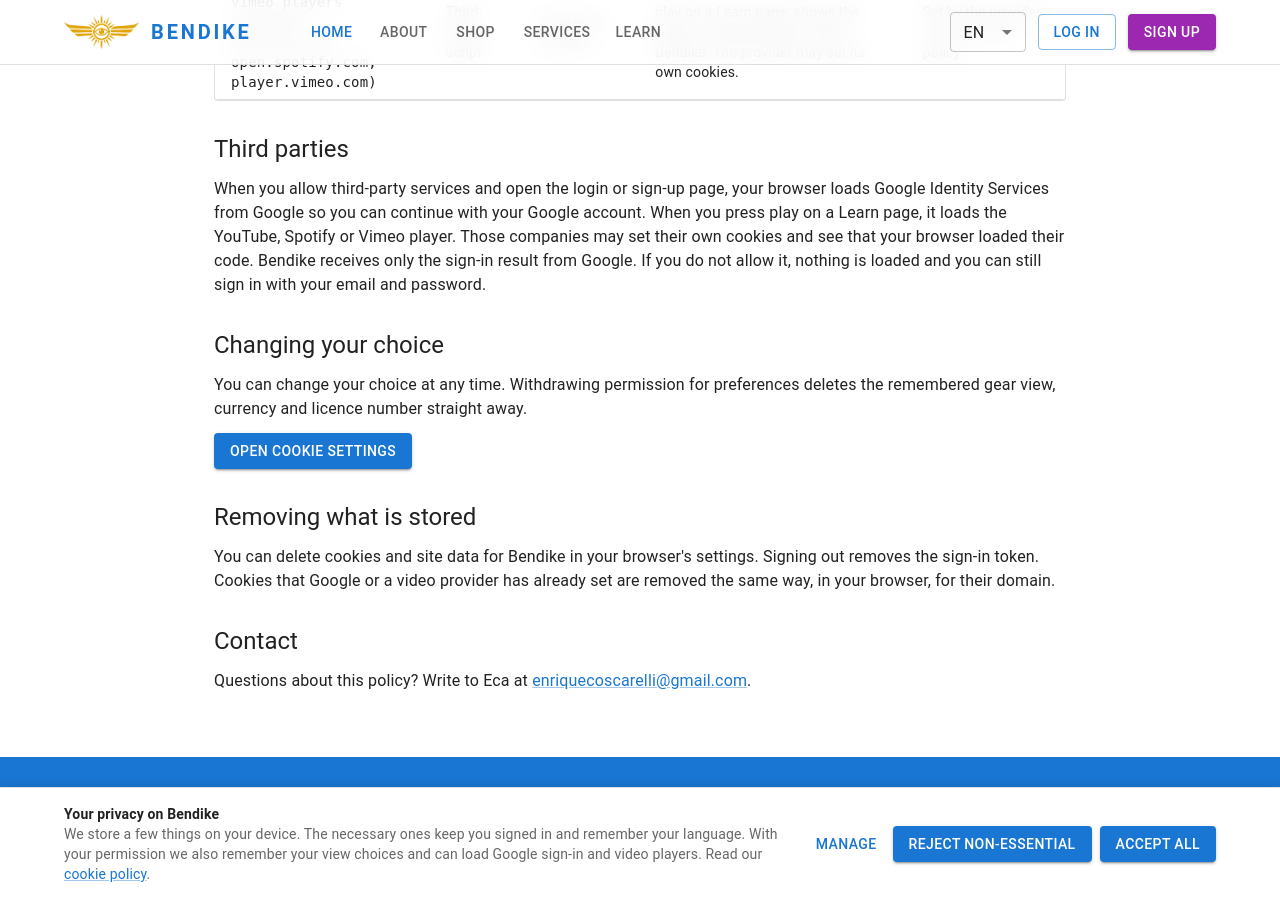
Scenario: CookiePolicyPage › explains how to change the choice, with a button that opens the settings
This screenshot has width=1280, height=900.
(page scrolled)
Step 1. Click the button "Open cookie settings" → (313, 451), box [214,432,412,469]
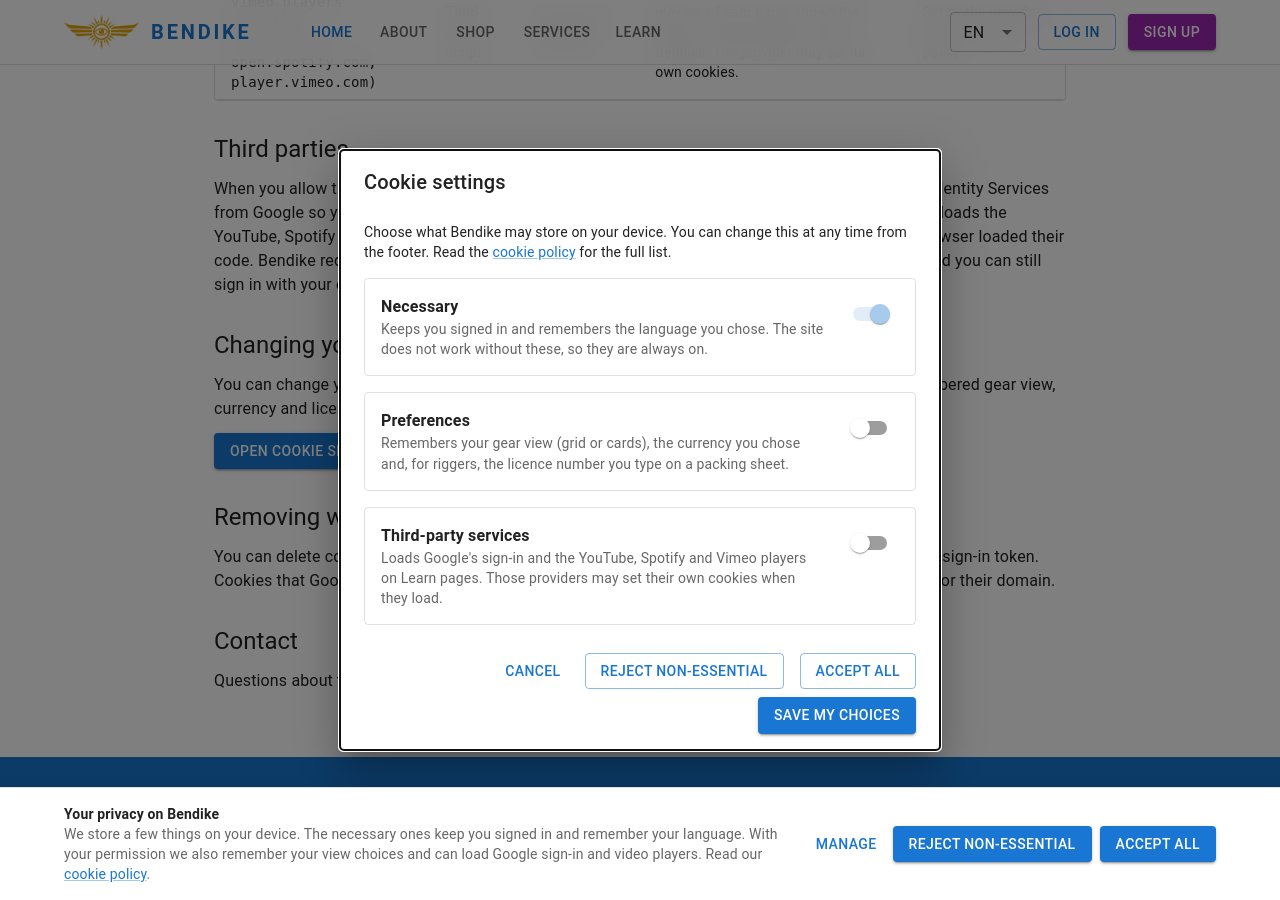
Now the dialog "Cookie settings" is shown, box [340,150,940,750]
